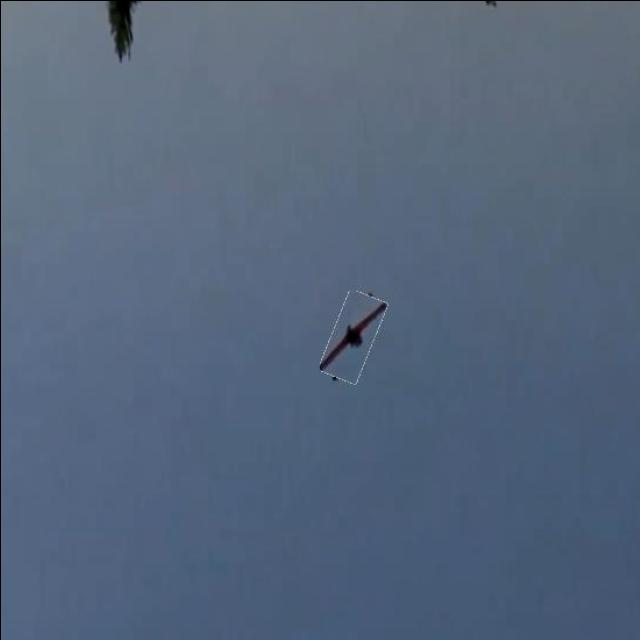plane: (317, 286, 388, 385)
